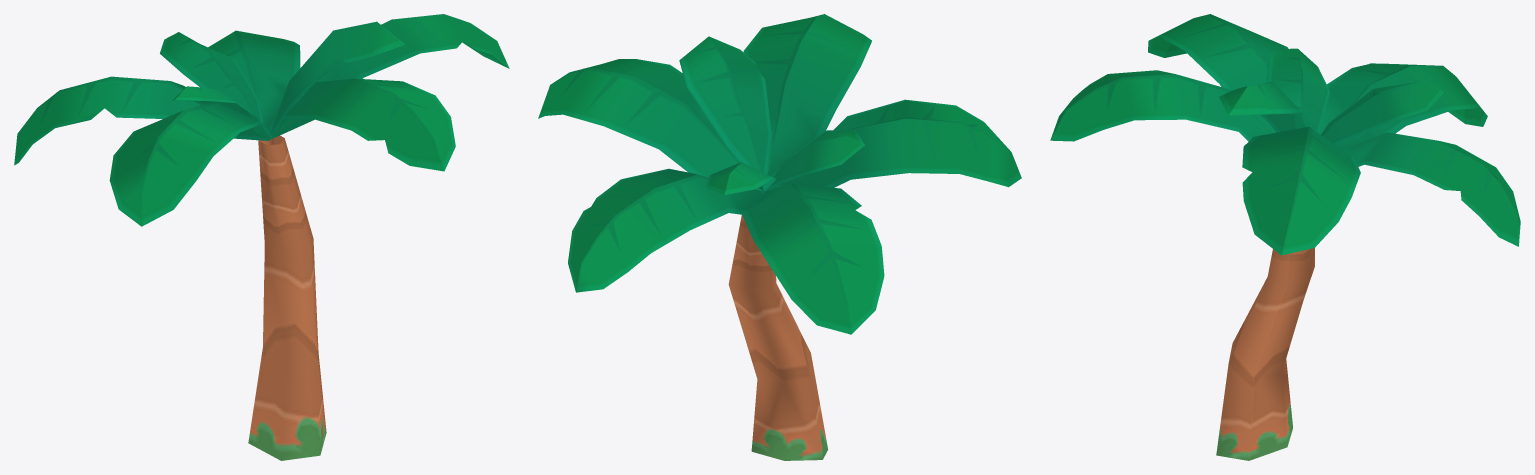
Rendered from prop10.glb.
3 views of the same model, side by side, from view 1: azimuth 30°, elevation 25°; view 2: azimuth 150°, elevation 25°; view 3: azimuth 270°, elevation 25° (orthographic).
Parts seen in each view (by area): view 1: Mesh_1.001_palm_tree.001_0; view 2: Mesh_1.001_palm_tree.001_0; view 3: Mesh_1.001_palm_tree.001_0.
Part boxes in pixels (<box>): Mesh_1.001_palm_tree.001_0: <box>14,14,509,460</box>; Mesh_1.001_palm_tree.001_0: <box>538,14,1021,460</box>; Mesh_1.001_palm_tree.001_0: <box>1050,14,1520,460</box>.
Size of the model in its own units: 5.8 by 5.2 by 5.48.
1 material, 1 textured.
